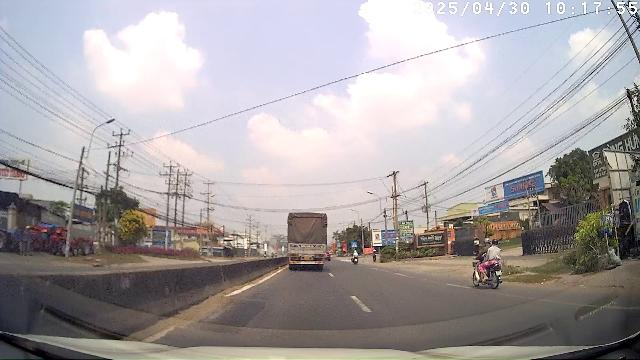423a-duong-nguoi-di-bo-sang-ngang-1: (351, 242, 357, 247)
